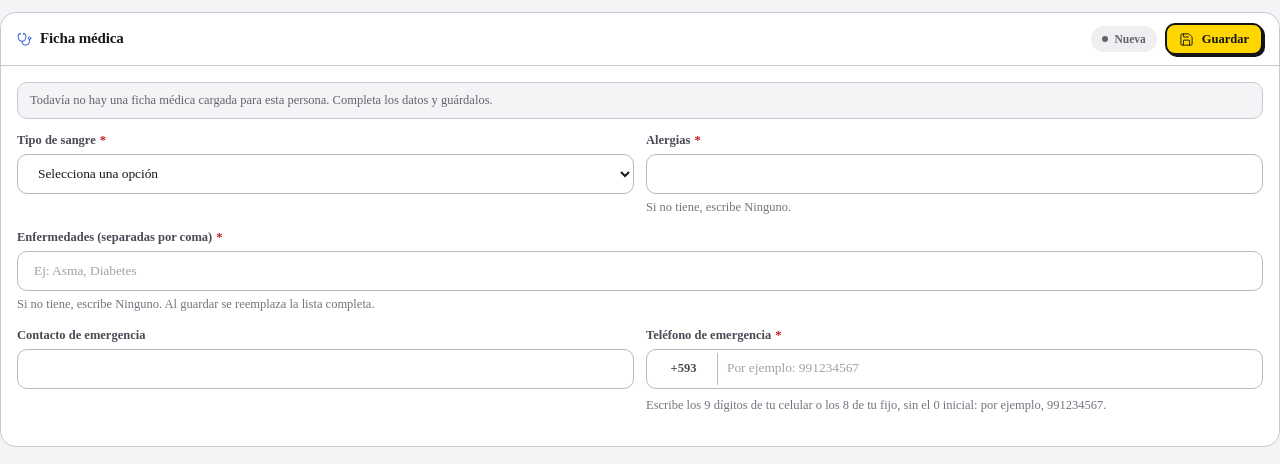
MedicalRecordEditor blood type › starts a first record with no blood type chosen, and refuses to save until one is
Expected: the dropdown labelled "Tipo de sangre" shows "Selecciona una opción", [17, 154, 634, 194]
Click the button "Guardar". click: (1214, 39)
box: [1165, 23, 1263, 55]
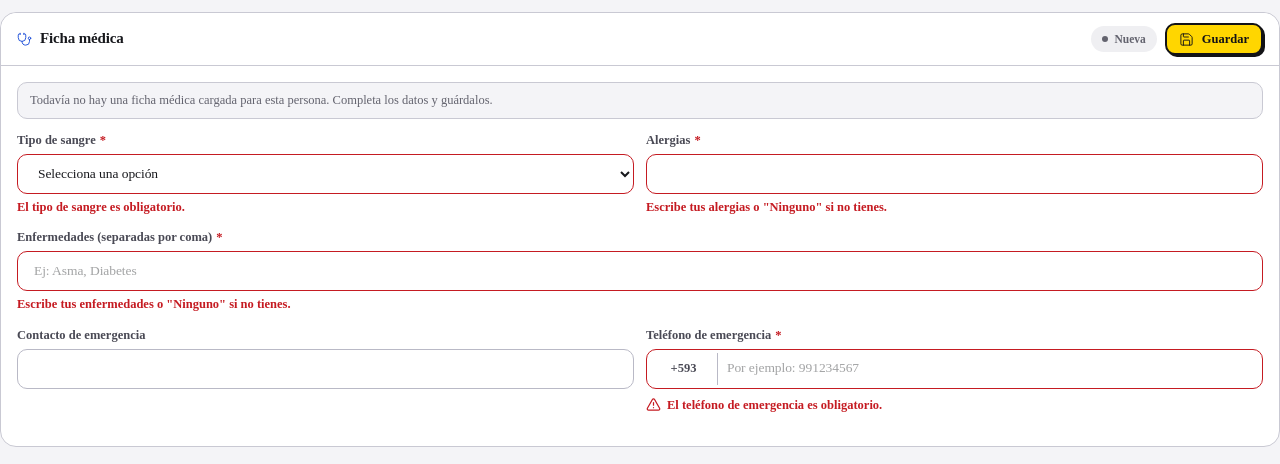
Expected: the text "El tipo de sangre es obligatorio." is shown, [17, 200, 185, 214]
